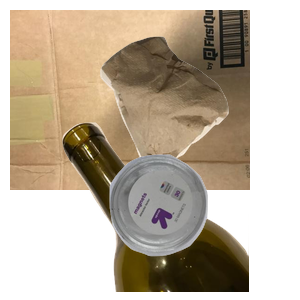cardboard: (10, 10, 250, 190)
glass: (60, 120, 300, 300)
plastic: (107, 152, 300, 300)
trash: (98, 34, 300, 211)
